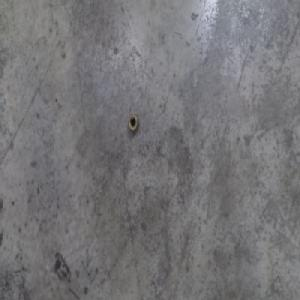Nut: (127, 113, 138, 134)
